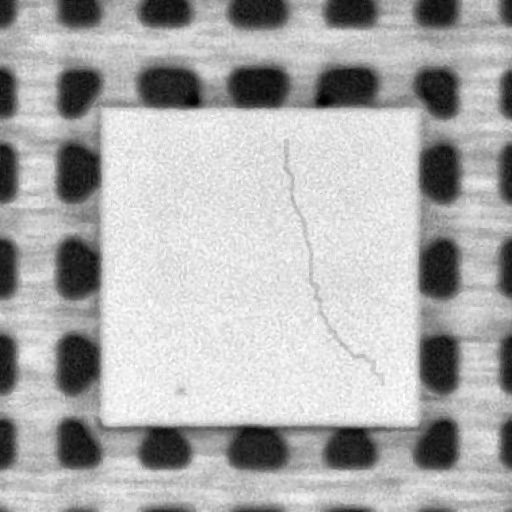DIE_CRACK: (282, 143, 384, 381)
